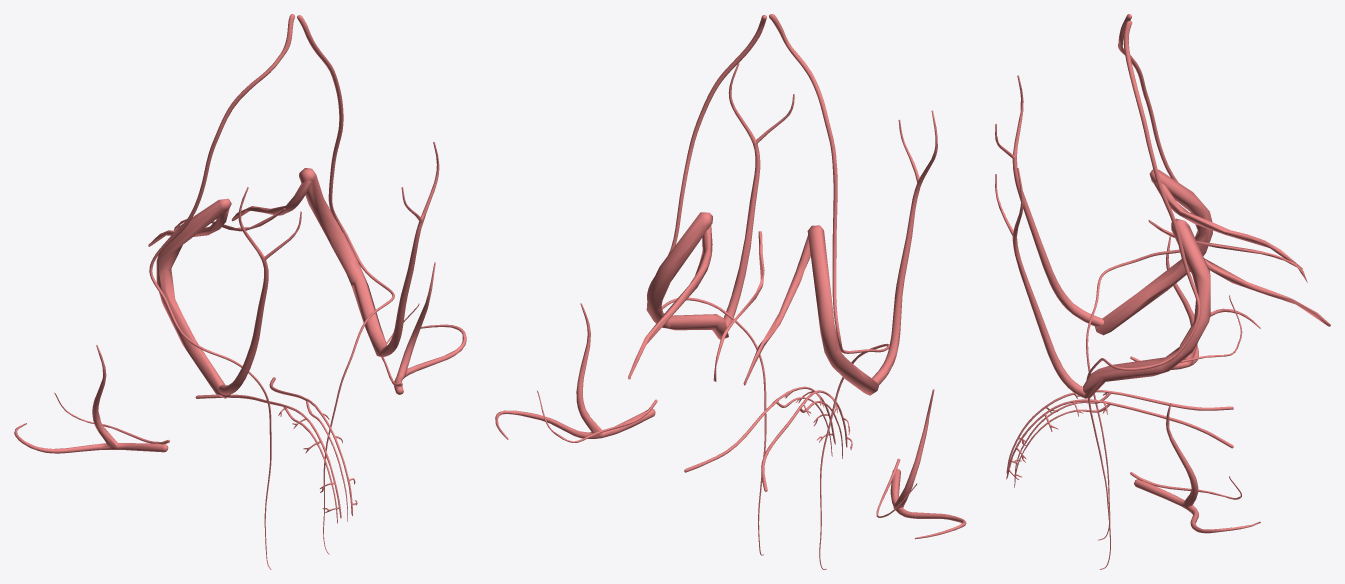
Rendered from arteres-bassin.lo.glb.
3 renders of one model, left to right at view 1: azimuth 30°, elevation 25°; view 2: azimuth 150°, elevation 25°; view 3: azimuth 270°, elevation 25°, orthographic. The views are drawn at different scales.
Parts seen in each view (by area): view 1: FJ3567, FJ3466, FJ3617, FJ3532, FJ2195, FJ3614, FJ3529, FJ2091, FJ3592, FJ3468, FJ3496; view 2: FJ3466, FJ3567, FJ3617, FJ3532, FJ3614, FJ3529, FJ2091, FJ2195, FJ3468, FJ3569, FJ3496, FJ3592 (+1 smaller); view 3: FJ3466, FJ3567, FJ3532, FJ3614, FJ3529, FJ3617, FJ2091, FJ3569, FJ3496, FJ3468, FJ3592, FJ2195 (+1 smaller).
Part boxes in pixels (x1,y1,x2,y2): FJ3567: [156, 198, 231, 398]; FJ3466: [299, 168, 387, 357]; FJ3617: [149, 14, 294, 569]; FJ3532: [297, 15, 394, 554]; FJ2195: [14, 345, 168, 453]; FJ3614: [218, 187, 301, 394]; FJ3529: [380, 142, 439, 357]; FJ2091: [394, 262, 466, 394]; FJ3592: [195, 394, 341, 518]; FJ3468: [231, 180, 311, 221]; FJ3496: [269, 377, 357, 515]; FJ3466: [646, 212, 728, 339]; FJ3567: [807, 225, 878, 395]; FJ3617: [769, 14, 889, 569]; FJ3532: [647, 15, 766, 555]; FJ3614: [872, 110, 937, 385]; FJ3529: [724, 63, 794, 327]; FJ2091: [495, 303, 655, 439]; FJ2195: [890, 389, 966, 539]; FJ3468: [628, 225, 712, 379]; FJ3569: [743, 235, 810, 385]; FJ3496: [684, 386, 835, 472]; FJ3592: [761, 390, 852, 491]; FJ3466: [1083, 218, 1210, 398]; FJ3567: [1095, 169, 1212, 335]; FJ3532: [1086, 20, 1200, 569]; FJ3614: [995, 75, 1106, 327]; FJ3529: [995, 168, 1086, 398]; FJ3617: [1086, 14, 1179, 540]; FJ2091: [1134, 403, 1260, 533]; FJ3569: [1154, 182, 1302, 269]; FJ3496: [1006, 399, 1233, 479]; FJ3468: [1204, 258, 1330, 326]; FJ3592: [1006, 390, 1233, 473]; FJ2195: [1166, 236, 1260, 369].
Bounding box in the file's own units: 0.2937 × 0.3374 × 0.1887.
